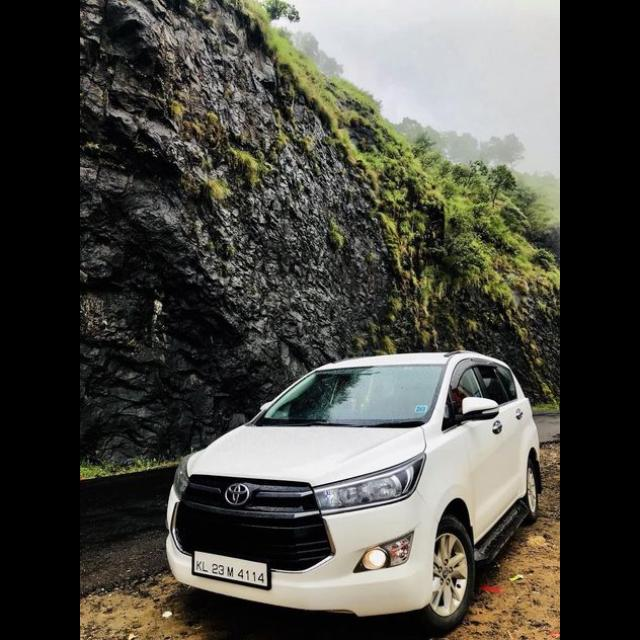vehicles: (170, 348, 542, 634)
